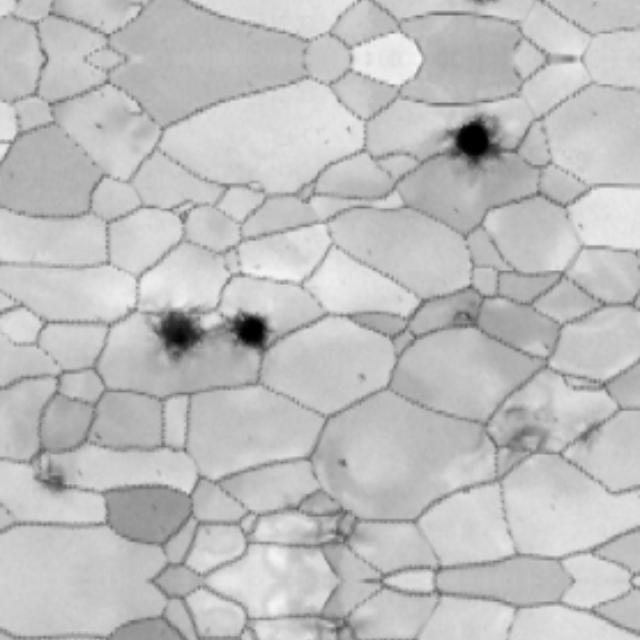good_void: (493, 397, 602, 461), (437, 110, 513, 173), (144, 302, 212, 367), (27, 453, 87, 500), (216, 311, 272, 358), (451, 300, 481, 339), (335, 456, 349, 475), (355, 371, 368, 386), (89, 432, 105, 444), (94, 119, 105, 134), (344, 126, 355, 137)
